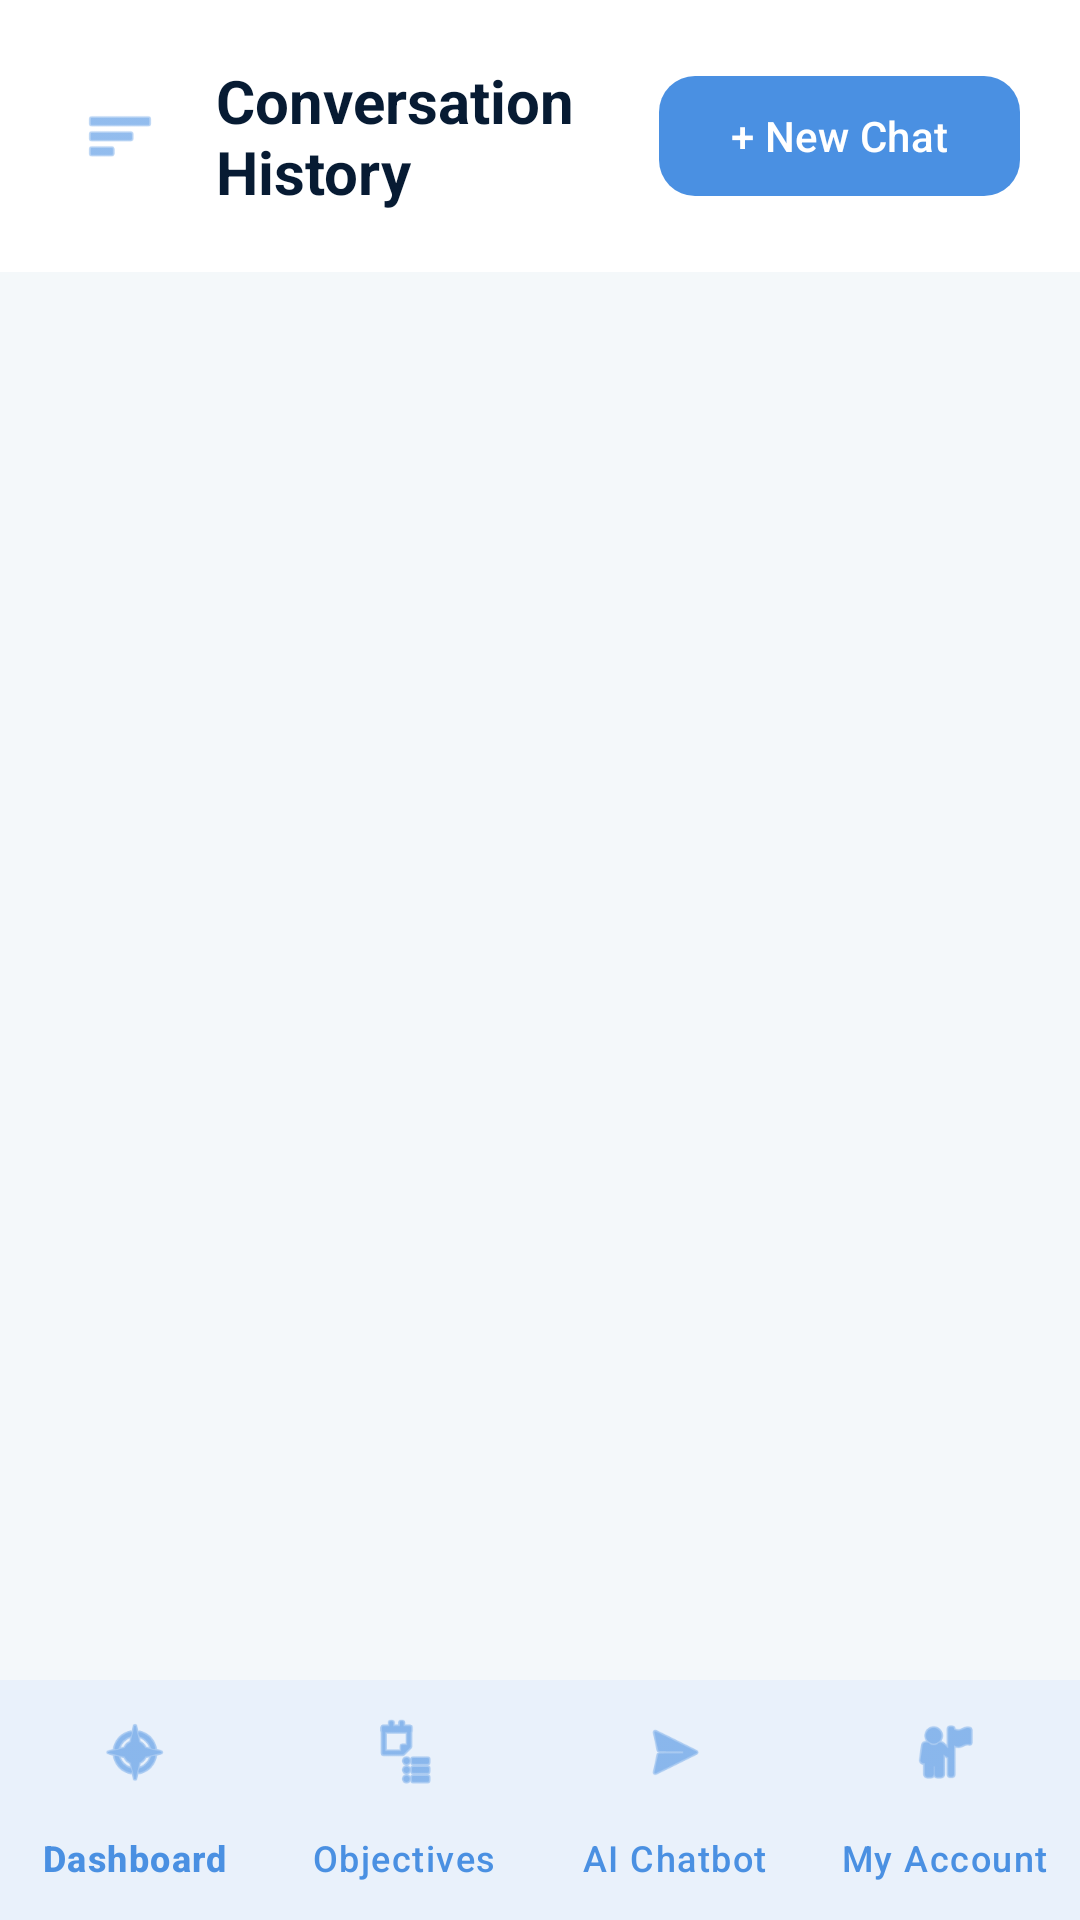

Icon bounding boxes for this 1080 x 1920 phone screenshot, format (x1, y1, x2, y2):
Menu: (89, 116, 151, 157)
